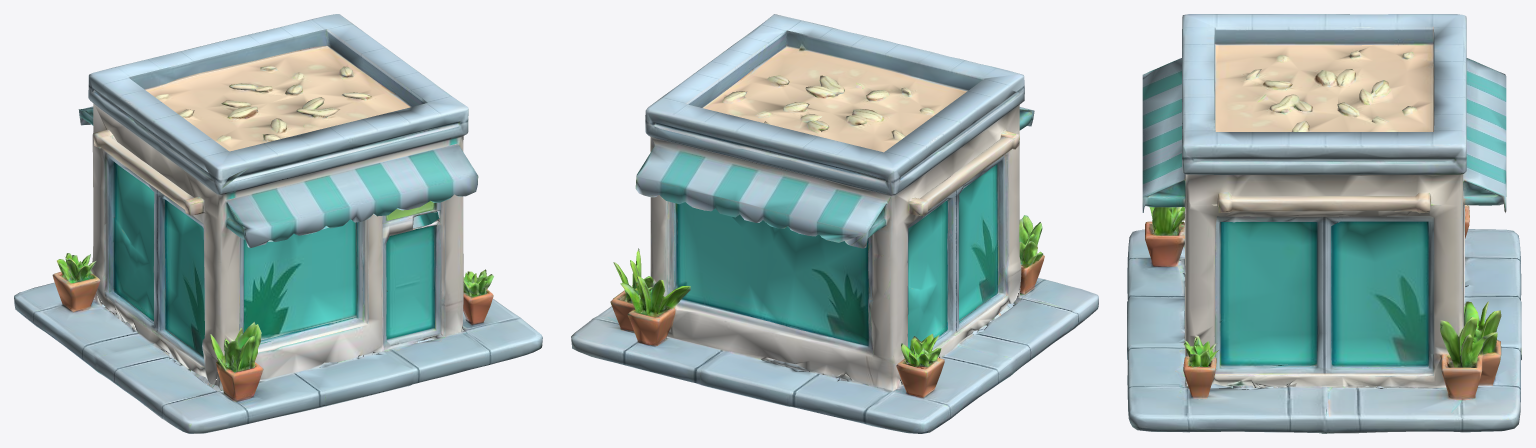
Rendered from tertiary.glb.
3 renders of one model, left to right at view 1: azimuth 30°, elevation 25°; view 2: azimuth 150°, elevation 25°; view 3: azimuth 270°, elevation 25°, orthographic. The views are drawn at different scales.
Visible parts, largest first — view 1: Mesh_0; view 2: Mesh_0; view 3: Mesh_0.
Boxes of the visible parts, <box> form: Mesh_0: <box>14,14,542,433</box>; Mesh_0: <box>571,14,1098,433</box>; Mesh_0: <box>1127,14,1521,433</box>.
Size of the model in its own units: 1.91 by 1.22 by 1.67.
Materials: 1 (1 with a texture image).
